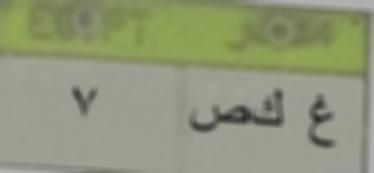7: (66, 83, 108, 120)
ghayn: (298, 90, 342, 157)
kaaf: (256, 84, 292, 131)
saad: (186, 97, 253, 132)
